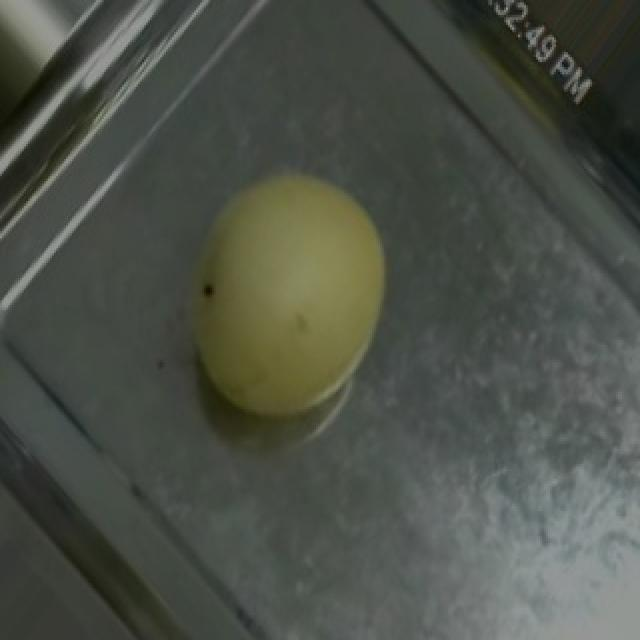Fruit: (134, 131, 432, 454)
